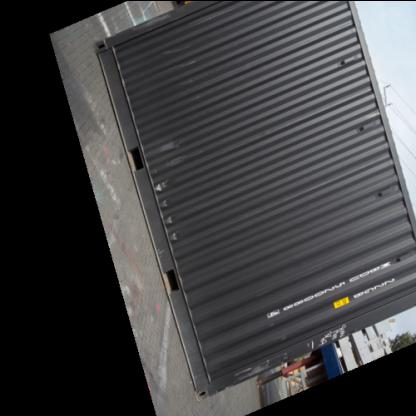Damage: (218, 350, 288, 394), (153, 176, 183, 242), (294, 324, 354, 354)
